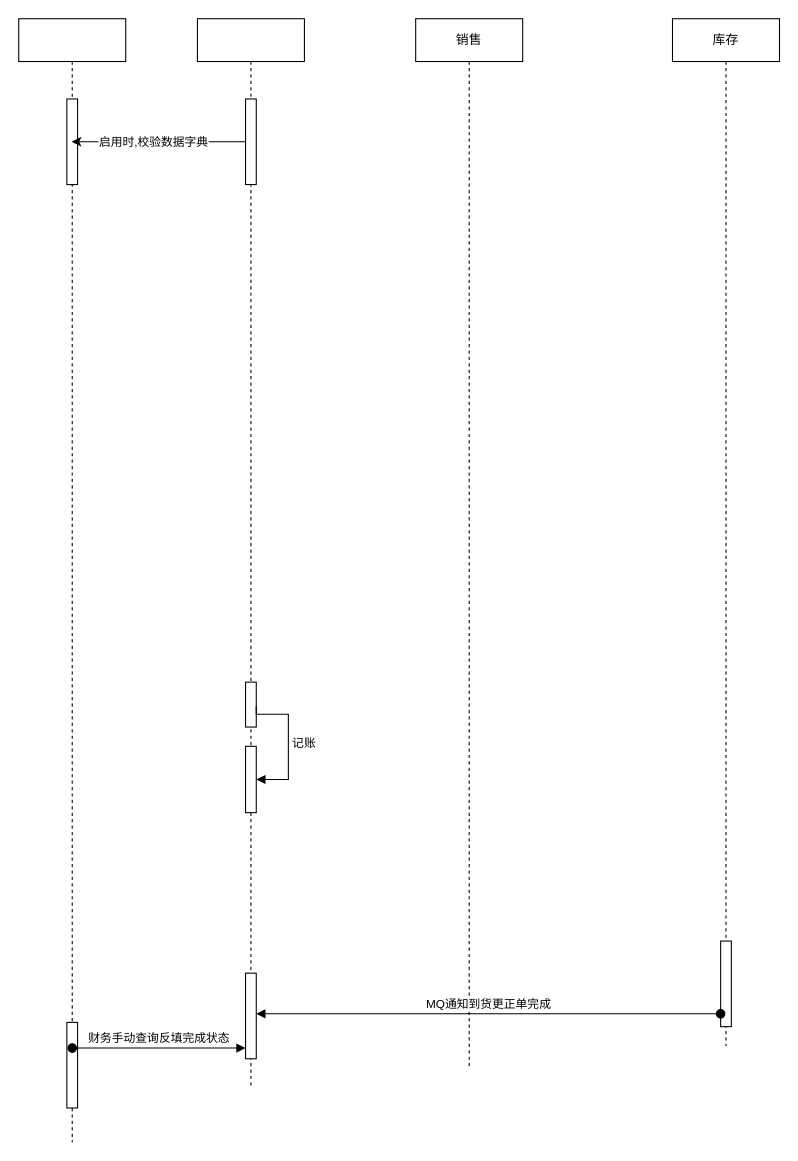
This 798x1161 diagram has some shape labels left out. Each missing label, with the box of its shape:
基础数据 (数据字典): (18, 18, 126, 1142)
销售 (设备清单): (196, 18, 304, 1089)
